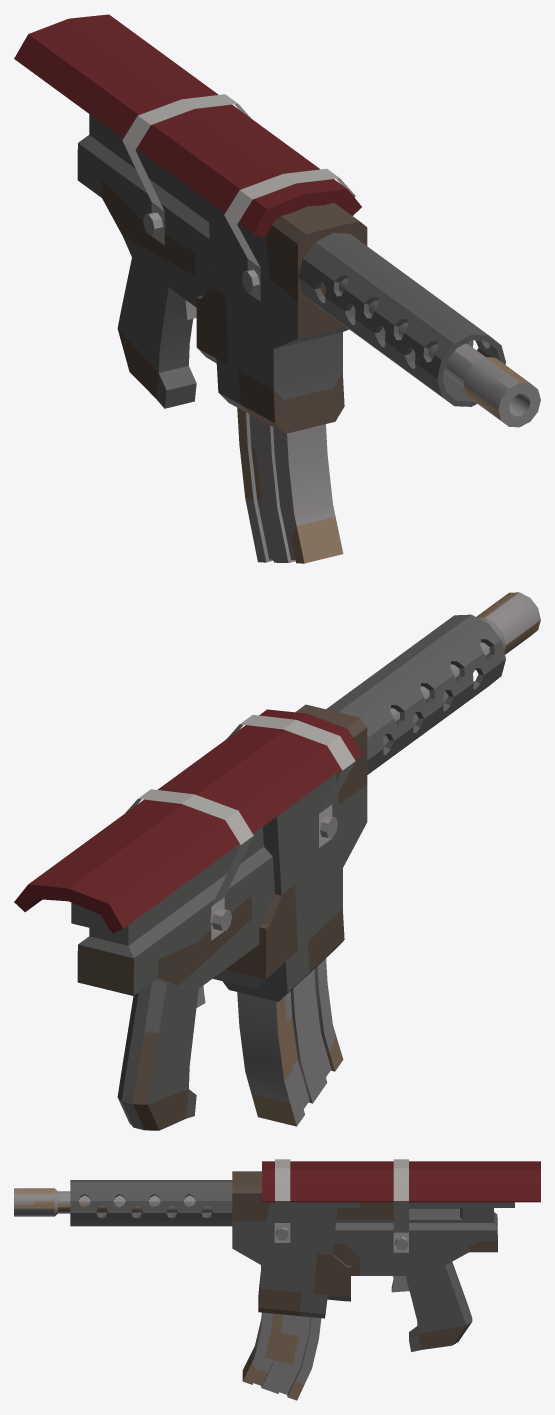
File: SMG.glb
The picture shows the model from 3 angles, top to bottom: view 1: azimuth 30°, elevation 25°; view 2: azimuth 150°, elevation 25°; view 3: azimuth 270°, elevation 25°; orthographic projection. The views are drawn at different scales.
Parts seen in each view (by area): view 1: SMG; view 2: SMG; view 3: SMG.
Boxes of the visible parts, left/top/right/bottom form: SMG: left=14, top=14, right=540, bottom=563; SMG: left=14, top=592, right=540, bottom=1130; SMG: left=14, top=1159, right=540, bottom=1400.
Bounding box in the file's own units: 0.1507 × 0.4718 × 0.994.
Materials: 1 (1 with a texture image).
